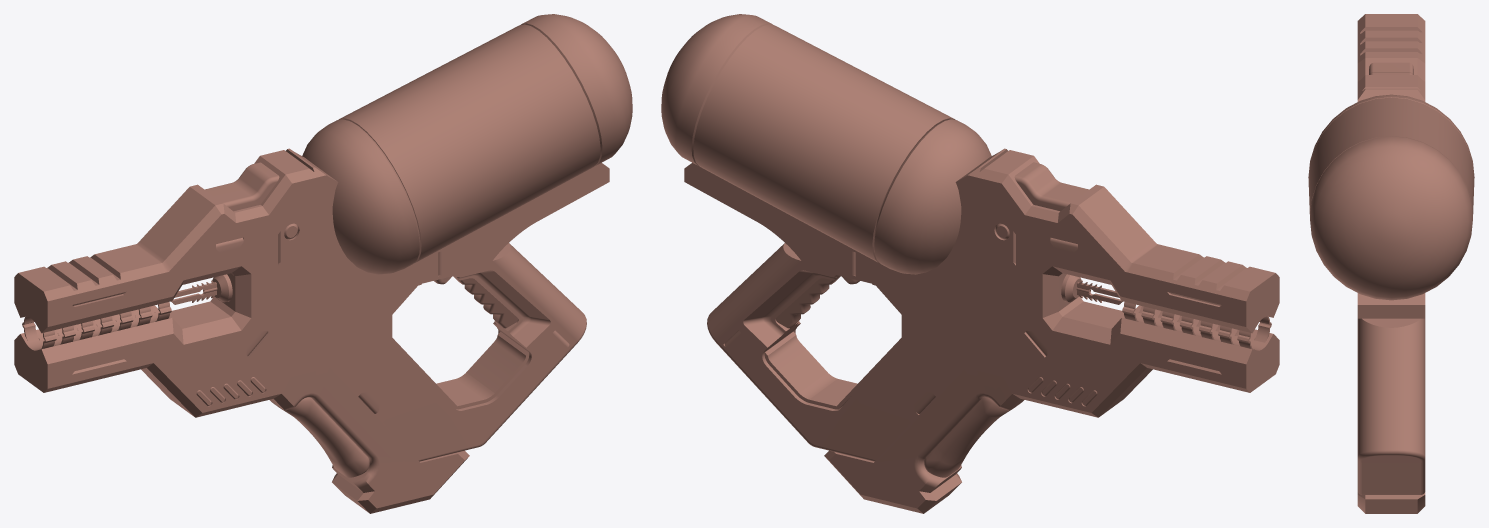
Rendered from CapsuleGun.fbx.
The picture shows the model from 3 angles, left to right: view 1: azimuth 30°, elevation 25°; view 2: azimuth 150°, elevation 25°; view 3: azimuth 270°, elevation 25°; orthographic projection.
Visible parts, largest first — view 1: Balloon_LP.001, Main2_LP.001, Main0_LP.001, Main1_LP.001, Handle0_LP.001, Barrel0_LP.001, MidPart1_LP.001, Barrel1_LP.001, Handle1_LP.001, HandleSoft1_LP.001, Barrel3_LP.001, SmallPart5_LP.001 (+3 smaller); view 2: Balloon_LP.001, Main2_LP.001, Main0_LP.001, Main1_LP.001, Handle0_LP.001, Barrel0_LP.001, MidPart1_LP.001, Barrel1_LP.001, Handle1_LP.001, HandleSoft1_LP.001, Barrel3_LP.001, SmallPart5_LP.001 (+3 smaller); view 3: Balloon_LP.001, Handle0_LP.001, Barrel1_LP.001, Main0_LP.001, MidPart1_LP.001, Main1_LP.001, Main2_LP.001, MidPart0_LP.001, SmallPart5_LP.001.
Boxes of the visible parts, x1,y1,x2,y2 form: Balloon_LP.001: [302, 14, 632, 274]; Main2_LP.001: [14, 150, 343, 392]; Main0_LP.001: [291, 251, 573, 461]; Main1_LP.001: [143, 315, 469, 513]; Handle0_LP.001: [438, 162, 609, 350]; Barrel0_LP.001: [14, 263, 254, 367]; MidPart1_LP.001: [160, 152, 300, 247]; Barrel1_LP.001: [27, 250, 138, 390]; Handle1_LP.001: [391, 283, 529, 409]; HandleSoft1_LP.001: [271, 397, 369, 477]; Barrel3_LP.001: [22, 302, 171, 349]; SmallPart5_LP.001: [205, 162, 279, 211]; Balloon_LP.001: [661, 14, 991, 274]; Main2_LP.001: [950, 150, 1279, 392]; Main0_LP.001: [720, 251, 1002, 461]; Main1_LP.001: [824, 315, 1150, 513]; Handle0_LP.001: [684, 162, 855, 350]; Barrel0_LP.001: [1039, 263, 1279, 367]; MidPart1_LP.001: [993, 152, 1133, 247]; Barrel1_LP.001: [1155, 250, 1266, 390]; Handle1_LP.001: [764, 283, 902, 409]; HandleSoft1_LP.001: [924, 397, 1022, 477]; Barrel3_LP.001: [1122, 302, 1271, 349]; SmallPart5_LP.001: [1014, 162, 1088, 211]; Balloon_LP.001: [1308, 94, 1474, 300]; Handle0_LP.001: [1357, 293, 1425, 462]; Barrel1_LP.001: [1357, 18, 1425, 61]; Main0_LP.001: [1357, 460, 1425, 494]; MidPart1_LP.001: [1357, 54, 1425, 86]; Main1_LP.001: [1357, 492, 1425, 513]; Main2_LP.001: [1357, 14, 1425, 94]; MidPart0_LP.001: [1357, 88, 1425, 101]; SmallPart5_LP.001: [1369, 62, 1413, 74].
Bounding box in the file's own units: 369 × 260 × 88.4.
